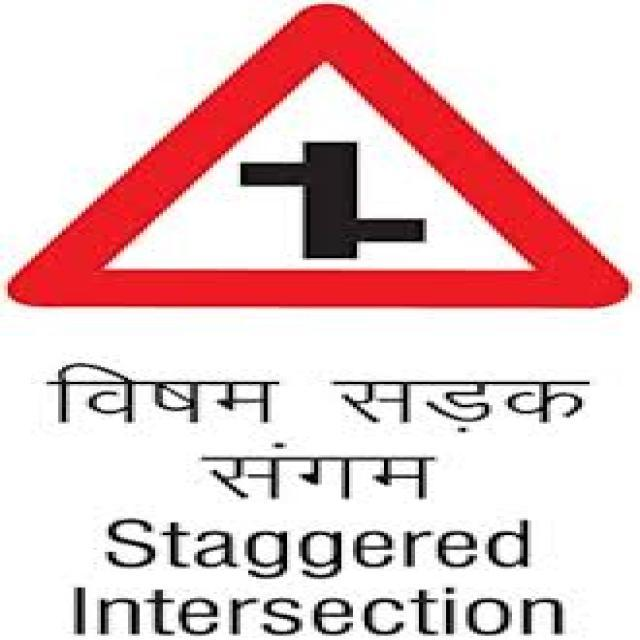staggered intersection: (15, 9, 624, 302)
